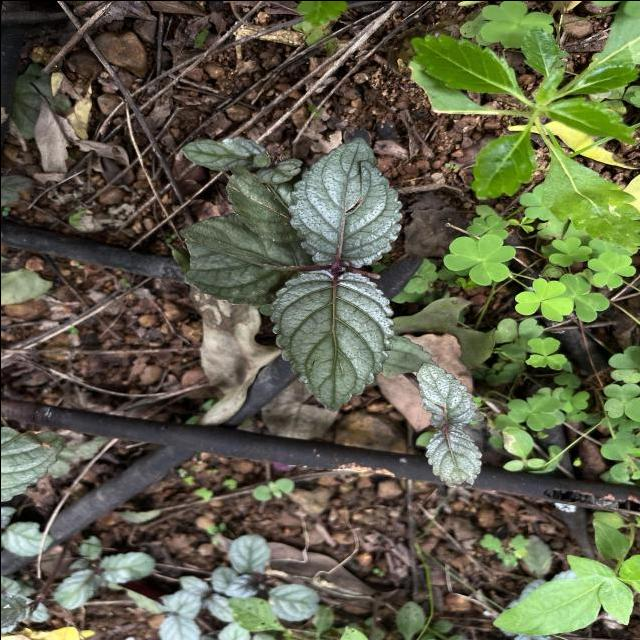Hemigraphis colorata: (266, 267, 399, 413), (285, 134, 404, 269), (176, 211, 311, 307), (412, 358, 479, 426), (422, 428, 484, 490)
